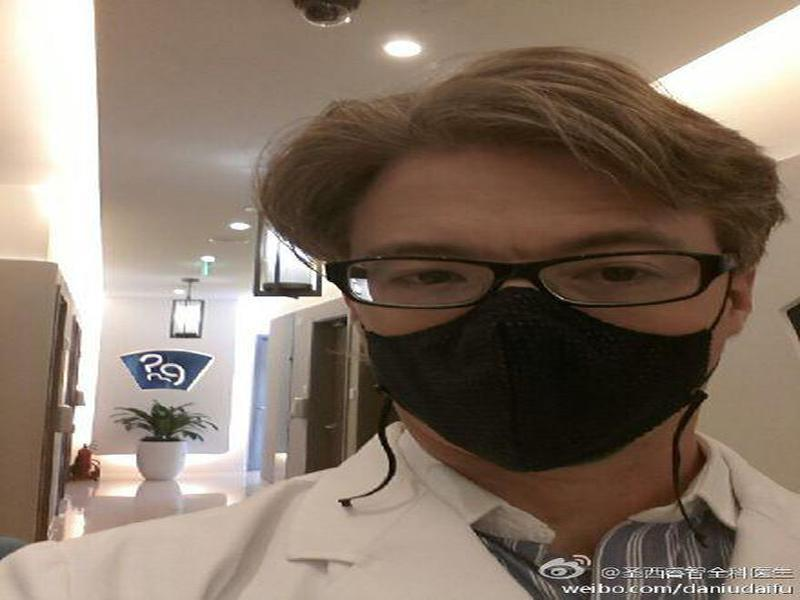with_mask: (318, 140, 740, 473)
